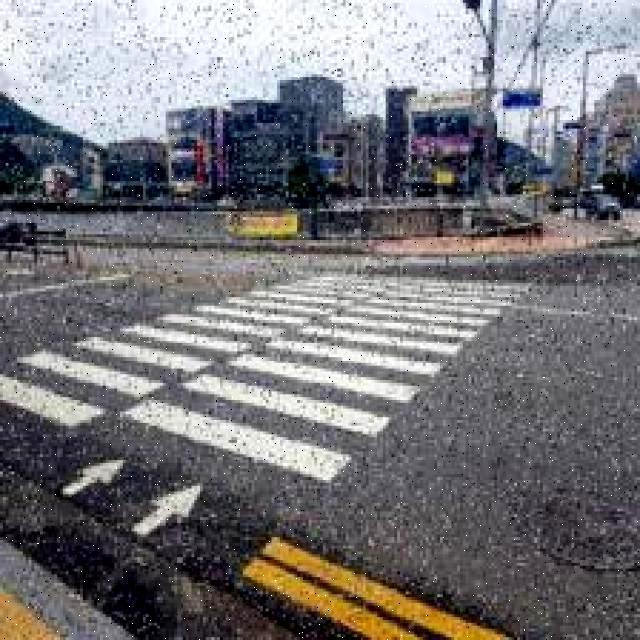crosswalk: (2, 258, 519, 603)
